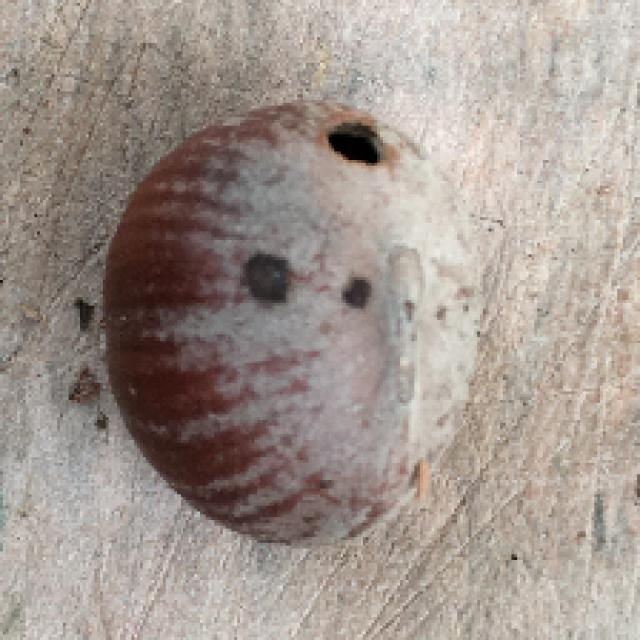damagedHazelnut: (94, 85, 503, 563)
